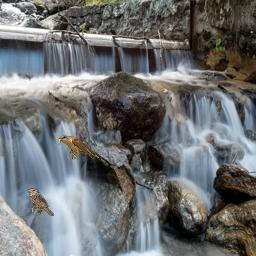Cuckoo: (57, 135, 109, 166)
Sparrow: (27, 188, 54, 216)
